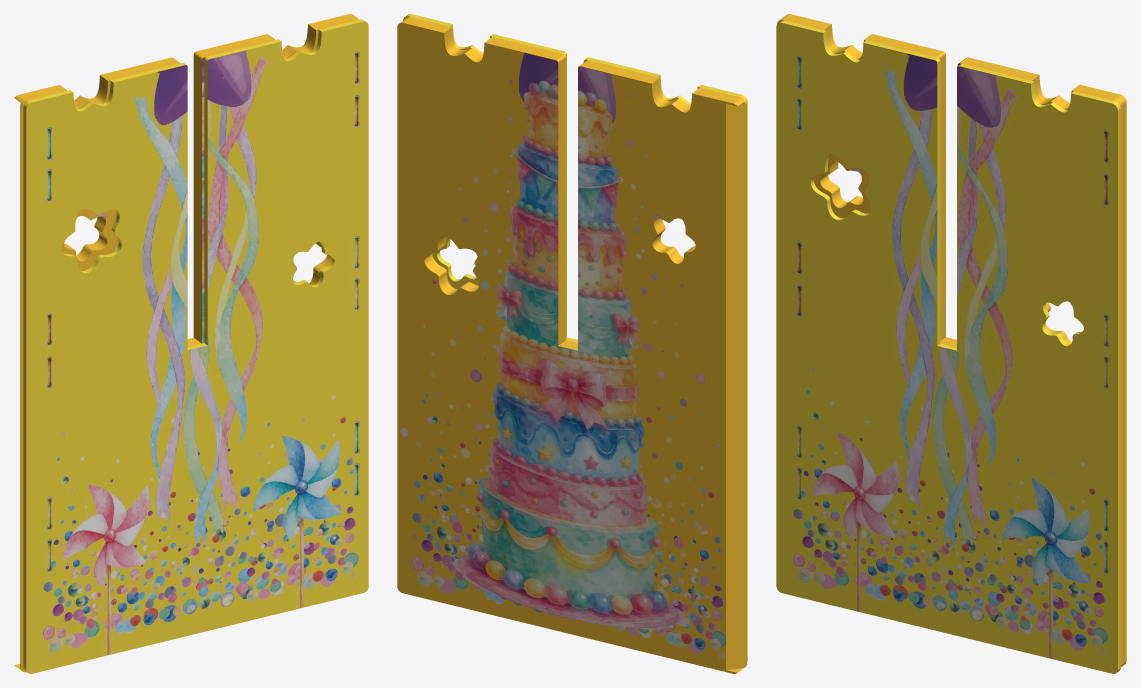
The model's file is narrow-right-bottom.glb.
3 renders of one model, left to right at view 1: azimuth 30°, elevation 25°; view 2: azimuth 150°, elevation 25°; view 3: azimuth 330°, elevation 25°, orthographic.
Visible parts, largest first — view 1: narrow-right-bottom; view 2: narrow-right-bottom; view 3: narrow-right-bottom.
Boxes of the visible parts, x1,y1,x2,y2 form: narrow-right-bottom: [14, 14, 368, 673]; narrow-right-bottom: [397, 14, 747, 673]; narrow-right-bottom: [776, 14, 1126, 673].
Size of the model in its own units: 584 by 925 by 33.
4 materials, 2 textured.
